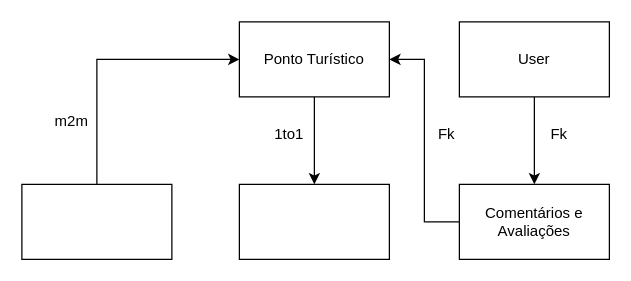
Image size: 631x281. Some labels were removed from this diagram. Each missing label, with the box of its shape:
Atração: (21, 183, 172, 259)
Localização: (238, 183, 389, 259)
